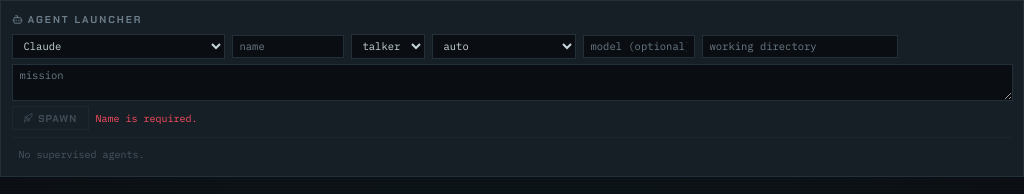
Test: AgentLauncher — working directory field › refuses a path containing a '..' segment before the round trip
Type "alpha" into the field named "Agent name" at (288, 46), box [232,34,344,58]
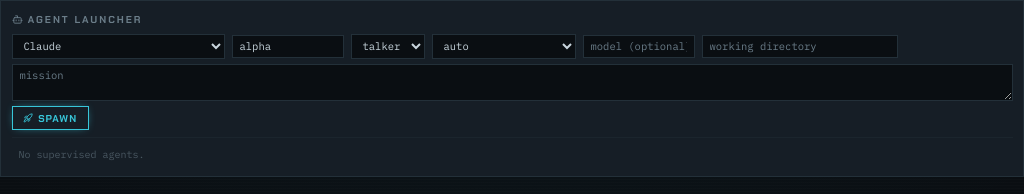
Type "/srv/../etc" into the field named "Agent working directory" at (800, 46), box [702,34,898,58]
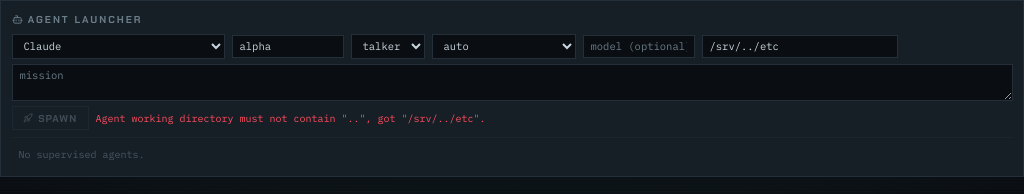
Expected: the text "must not contain" is shown, [96,112,486,124]
Expected: the button with aria-label "Spawn agent" is disabled, [12,106,89,130]
